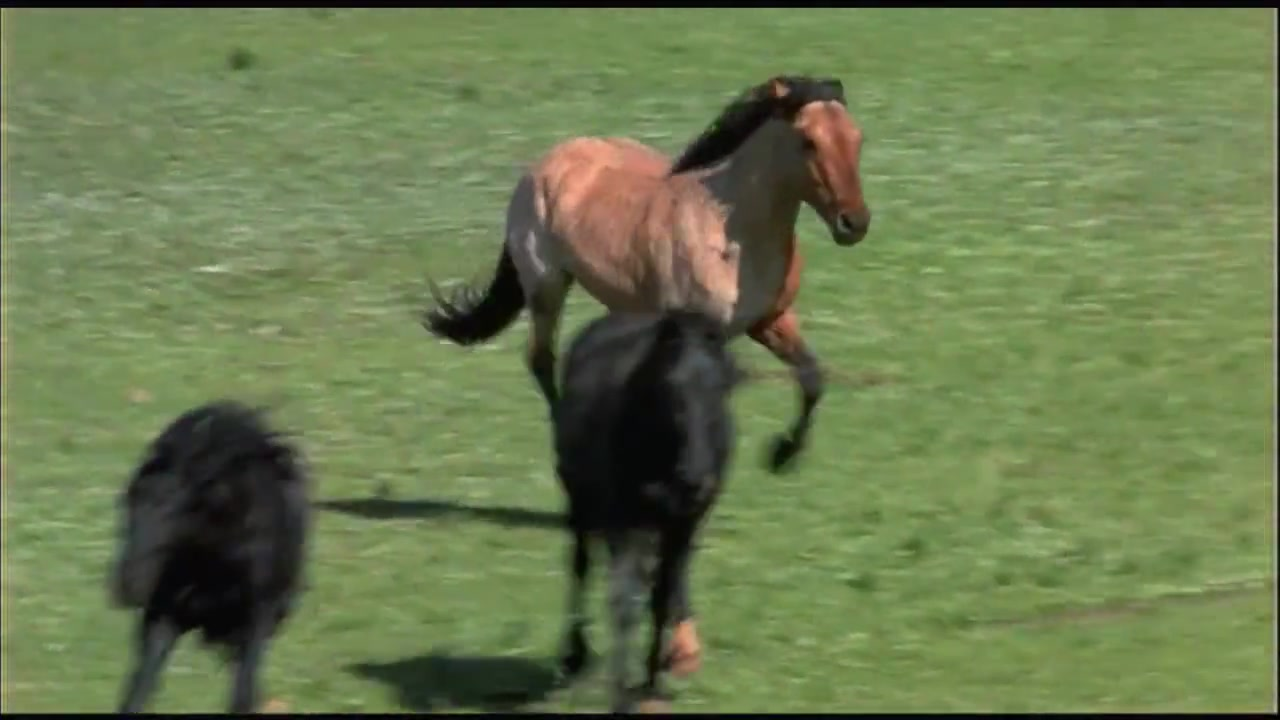horse: (550, 307, 741, 714)
